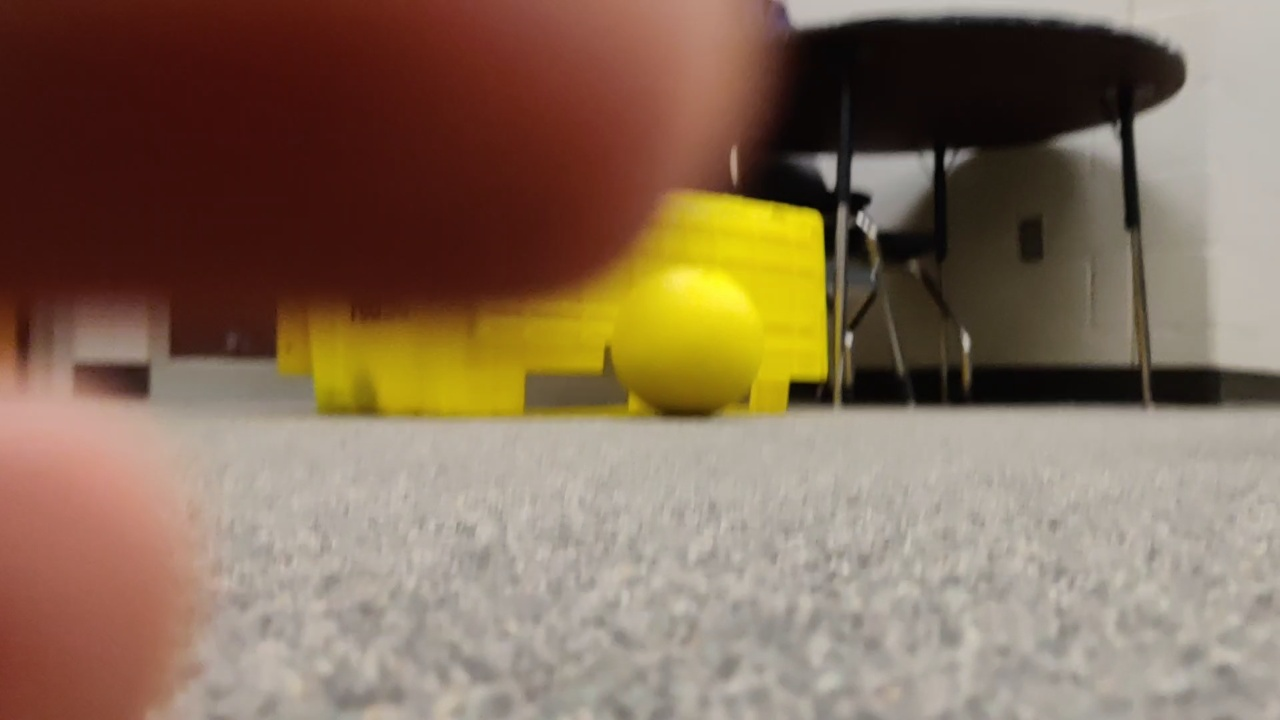Ball: (617, 269, 762, 421)
